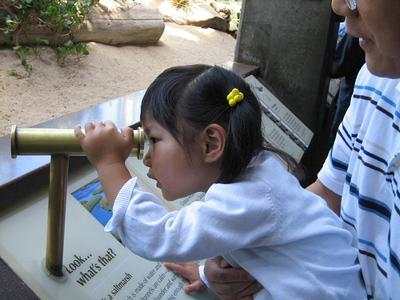person: (74, 65, 368, 300)
